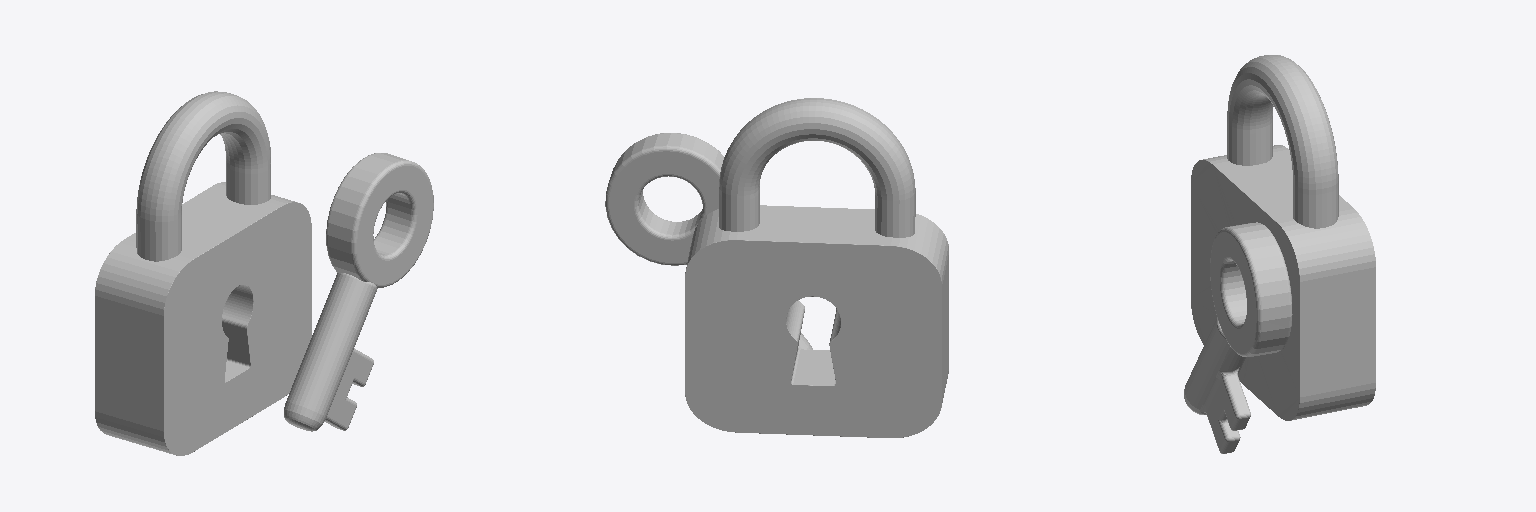
File: key.obj
3 views of the same model, side by side, from view 1: azimuth 30°, elevation 25°; view 2: azimuth 150°, elevation 25°; view 3: azimuth 270°, elevation 25° (orthographic).
Visible parts, largest first — view 1: 평면, Arc, 원형, 실린더; view 2: 평면, Arc, 원형; view 3: 평면, Arc, 원형, 실린더.
Part boxes in pixels (left/top/right/bottom): 평면: left=95, top=182, right=311, bottom=455; Arc: left=136, top=91, right=270, bottom=261; 원형: left=326, top=153, right=433, bottom=287; 실린더: left=284, top=273, right=377, bottom=431; 평면: left=685, top=205, right=948, bottom=437; Arc: left=719, top=98, right=915, bottom=237; 원형: left=605, top=133, right=723, bottom=265; 평면: left=1191, top=145, right=1375, bottom=420; Arc: left=1227, top=55, right=1338, bottom=228; 원형: left=1210, top=222, right=1292, bottom=356; 실린더: left=1184, top=318, right=1250, bottom=453.
Size of the model in its own units: 0.4421 by 0.4242 by 0.2197.